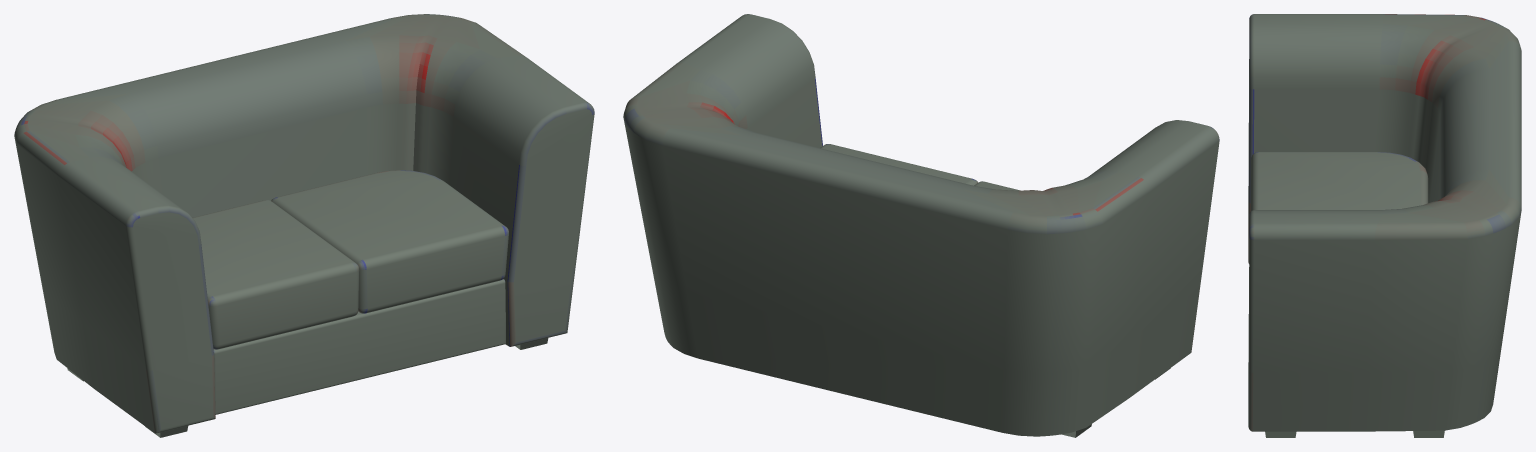
Rendered from Sofa_2Seater.fbx.
3 views of the same model, side by side, from view 1: azimuth 30°, elevation 25°; view 2: azimuth 150°, elevation 25°; view 3: azimuth 270°, elevation 25° (orthographic). The views are drawn at different scales.
Parts seen in each view (by area): view 1: Sofa_2Seater; view 2: Sofa_2Seater; view 3: Sofa_2Seater.
Boxes of the visible parts, left/top/right/bottom form: Sofa_2Seater: left=14, top=14, right=594, bottom=437; Sofa_2Seater: left=623, top=14, right=1219, bottom=437; Sofa_2Seater: left=1248, top=14, right=1521, bottom=437.
Bounding box in the file's own units: 163 × 79.24 × 86.05.
